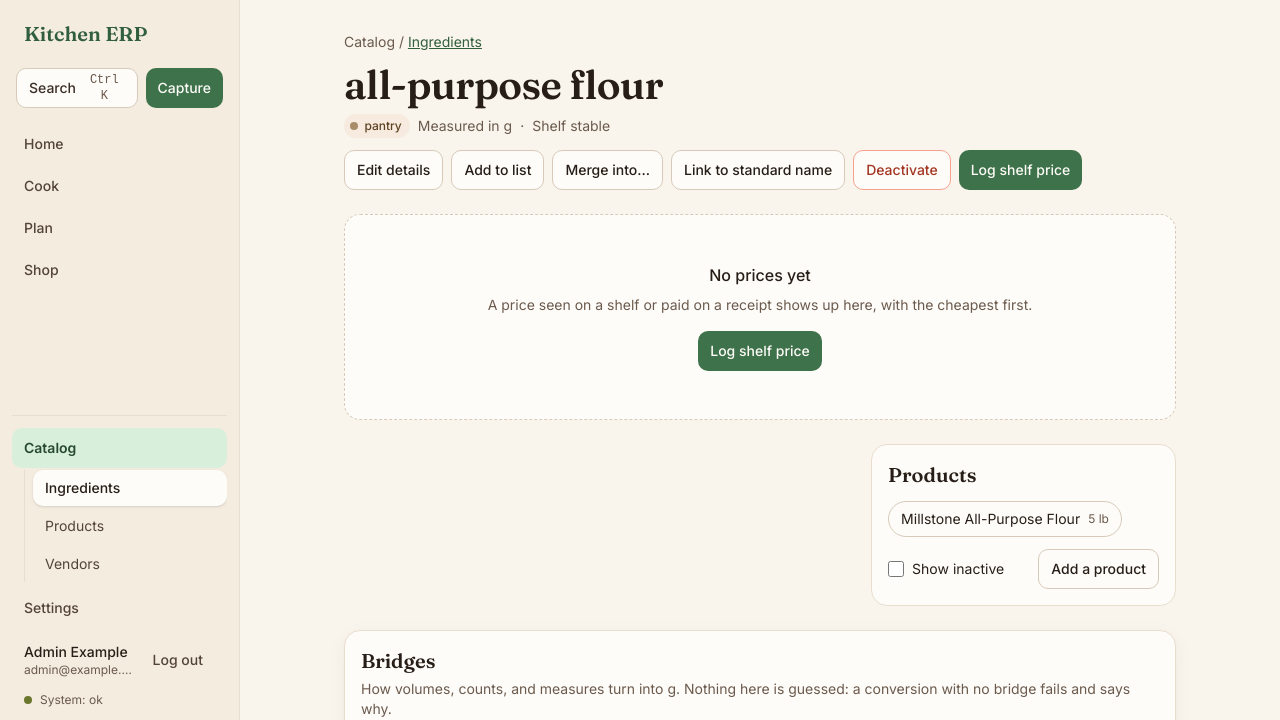
it: Add to list on the ingredient hub (UI-8.4) › opens a panel naming the kitchen, posts the ingredient and confirms through the Notice with Open list
Check: the heading "all-purpose flour" is shown, box x1=344 y1=60 x2=663 y2=110
Click the button "Add to list" at (498, 170), box x1=451 y1=150 x2=544 y2=190
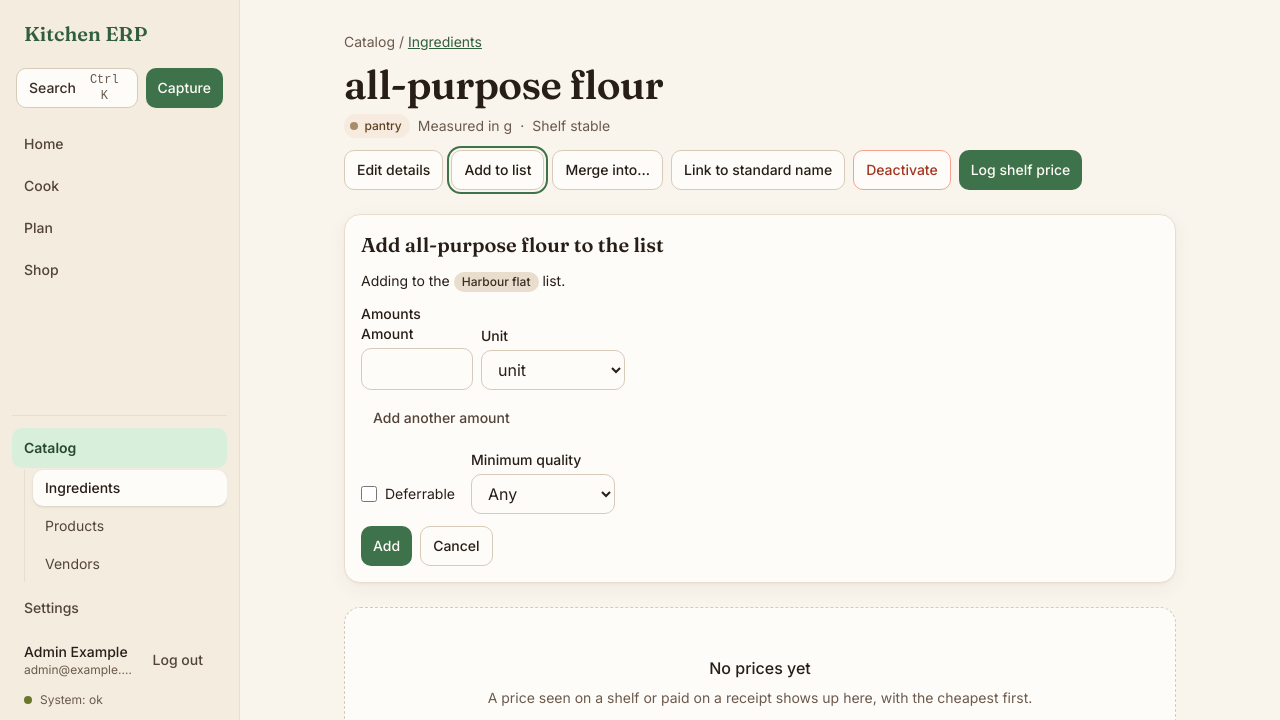
Type "2" into the field labelled "Amount" at (417, 369), box x1=361 y1=348 x2=473 y2=390
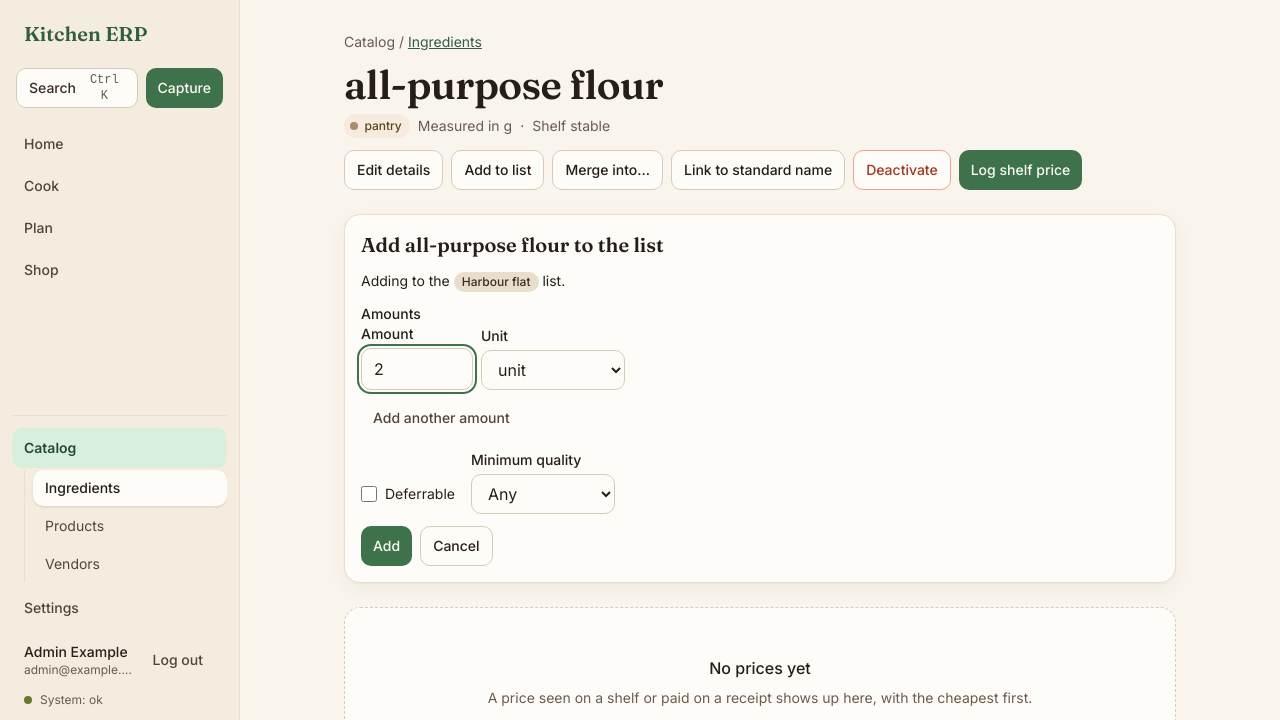
Select "lb" in the dropdown labelled "Unit" at (553, 370), box x1=481 y1=350 x2=625 y2=390
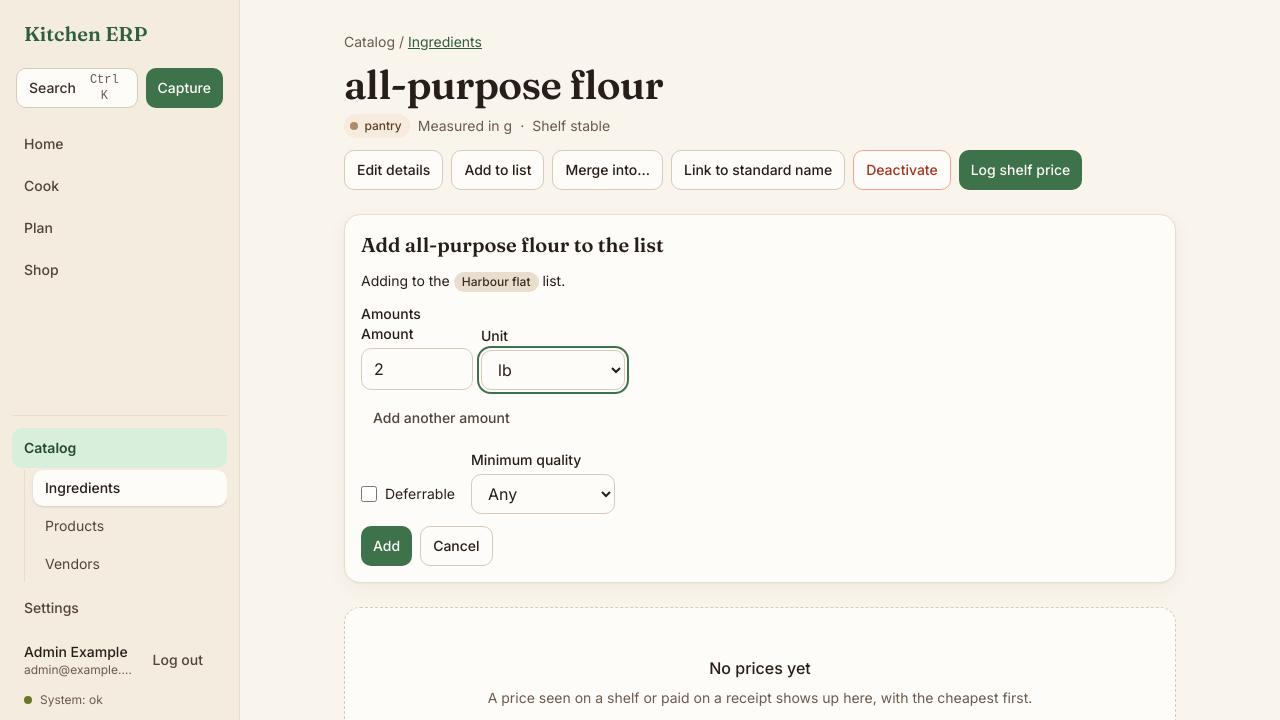
Click the checkbox labelled "Deferrable" at (369, 494), box x1=361 y1=486 x2=377 y2=502
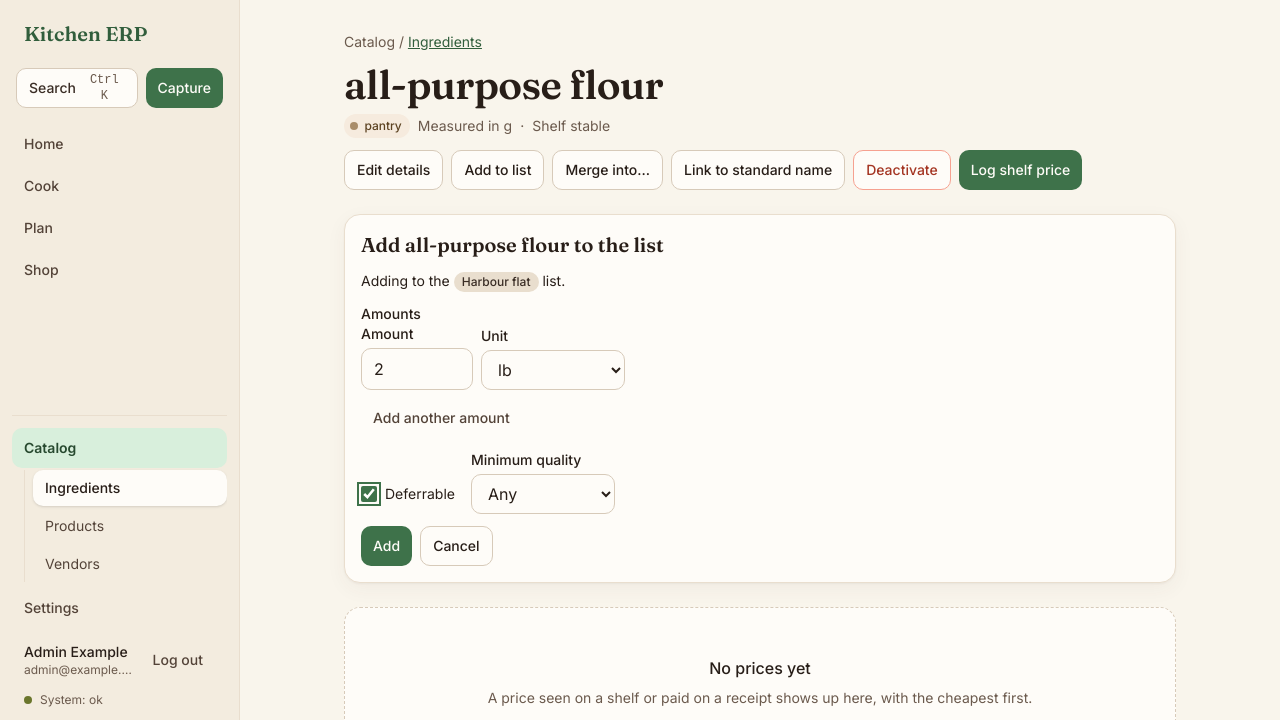
Click the button "Add" at (387, 546), box x1=361 y1=526 x2=412 y2=566
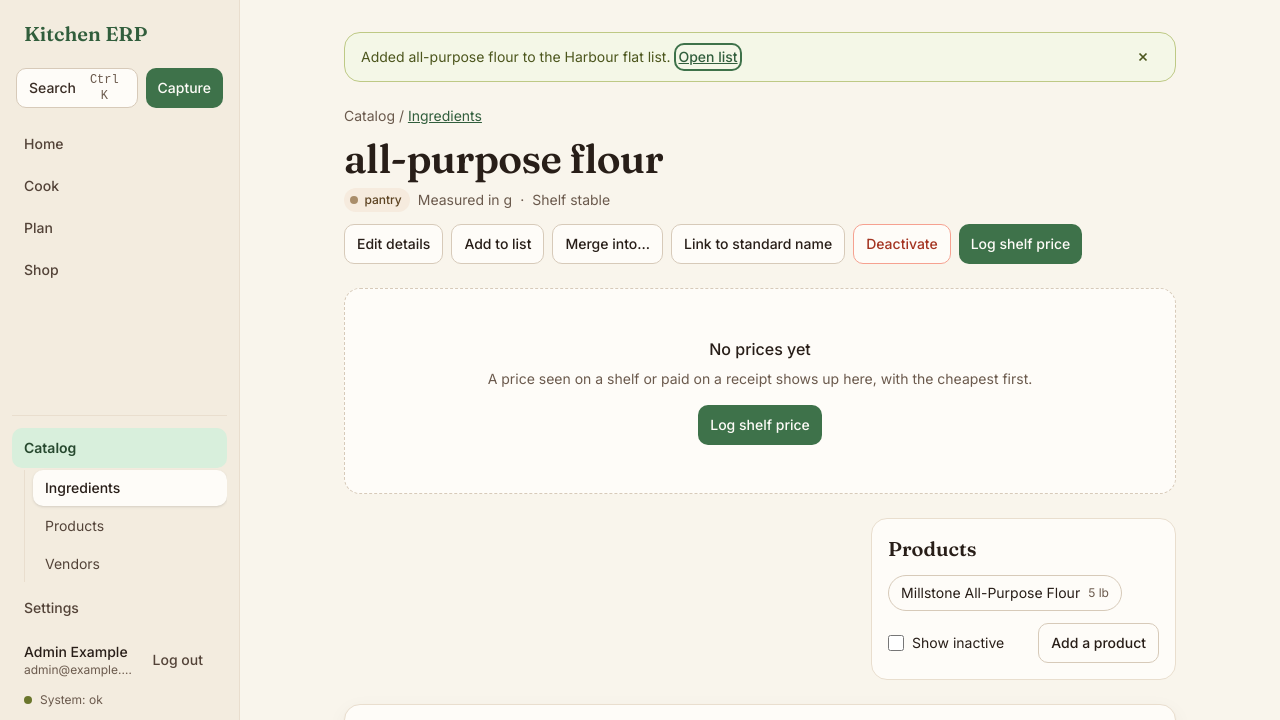
Check: the message with test id "notice" shows "Added all-purpose flour to the Harbour flat list.", box x1=361 y1=48 x2=670 y2=65
